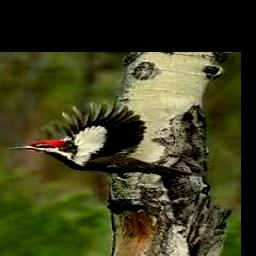Woodpecker: (6, 101, 199, 181)
